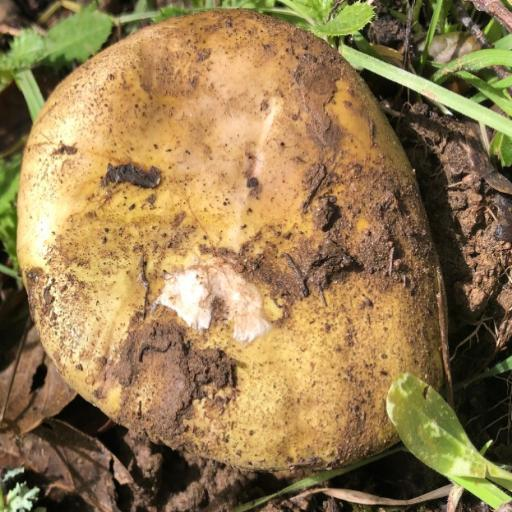mushroom: (5, 0, 449, 485)
